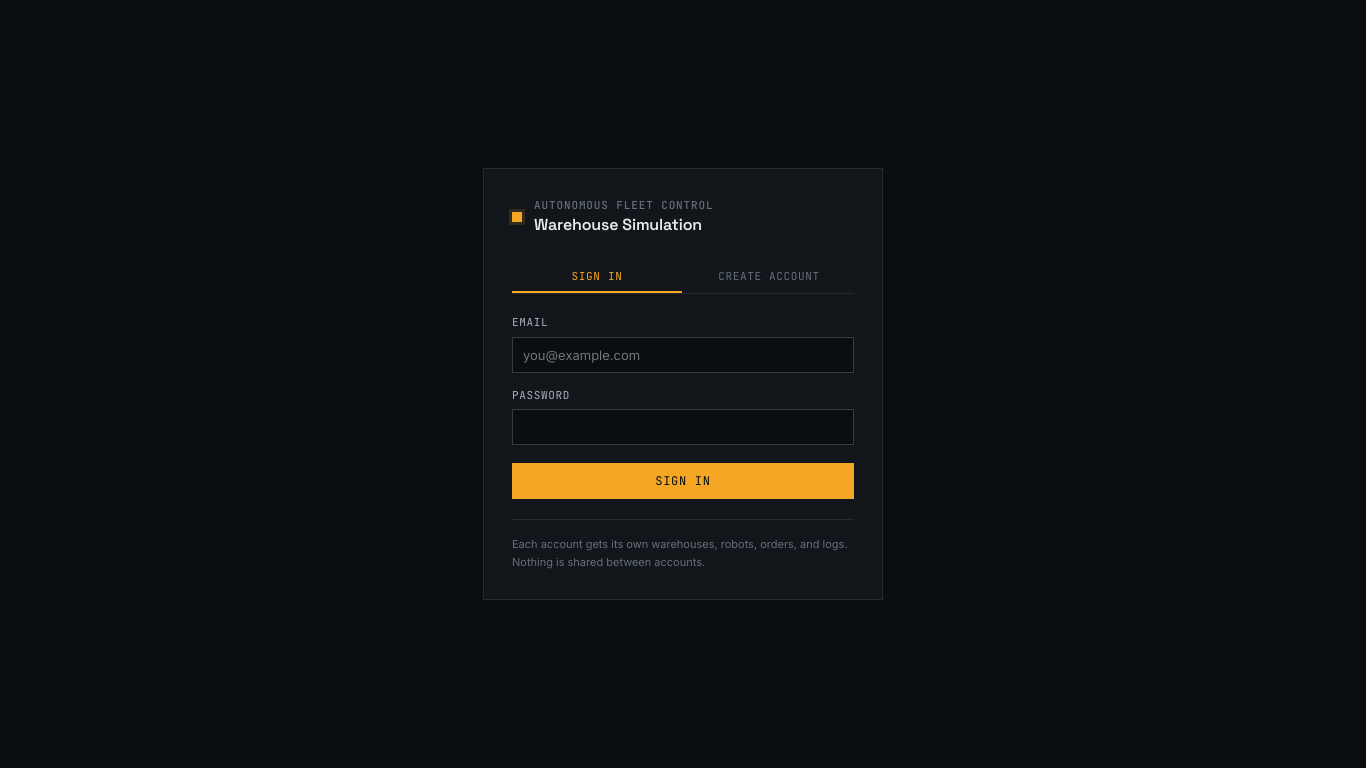
Test: login › signs in and opens the dashboard
The width and height of the screenshot is (1366, 768).
expect the button "Sign in" below "Password" is shown: met, box [512,463,854,499]
Type "ops@example.com" into the field labelled "Email".
click(683, 355); type("ops@example.com")  # box [512,337,854,373]
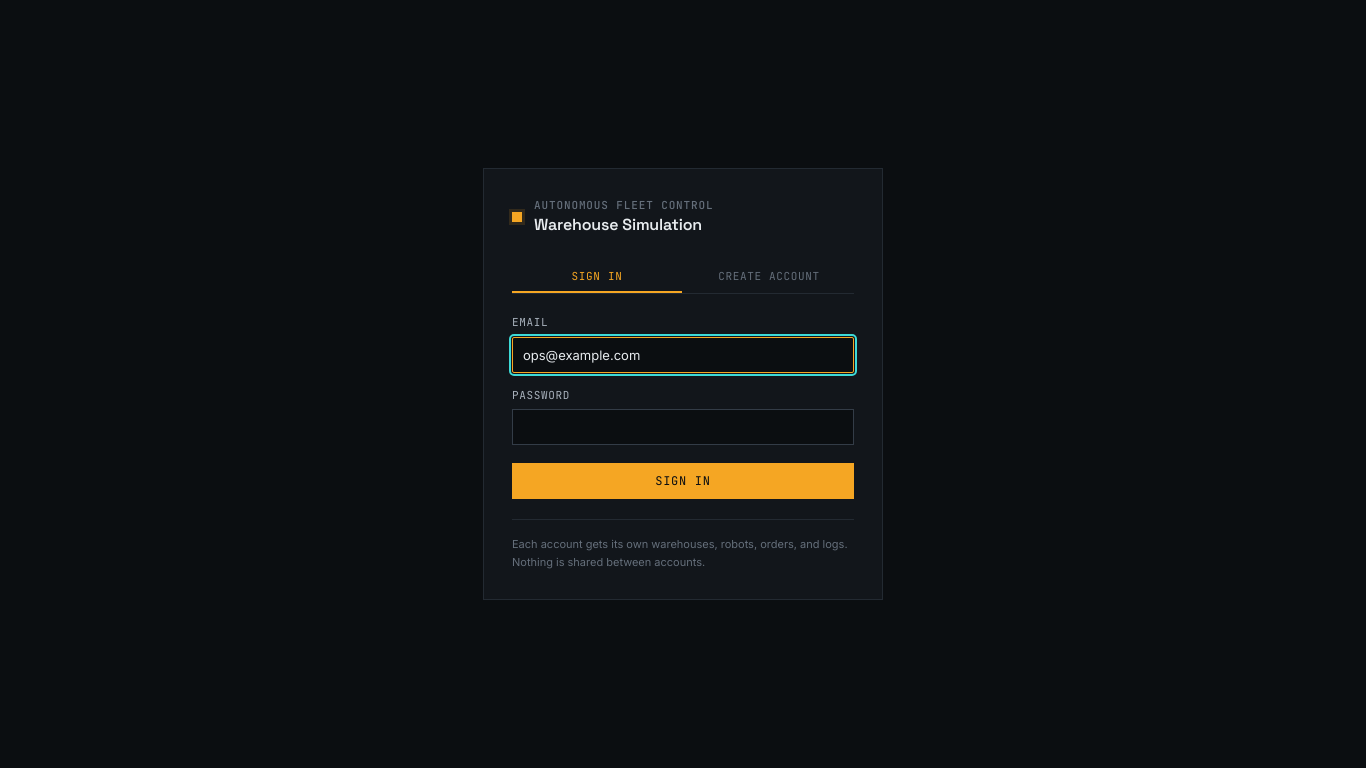
Type "correct-horse-battery" into the password field labelled "Password".
click(683, 427); type("correct-horse-battery")  # box [512,409,854,445]
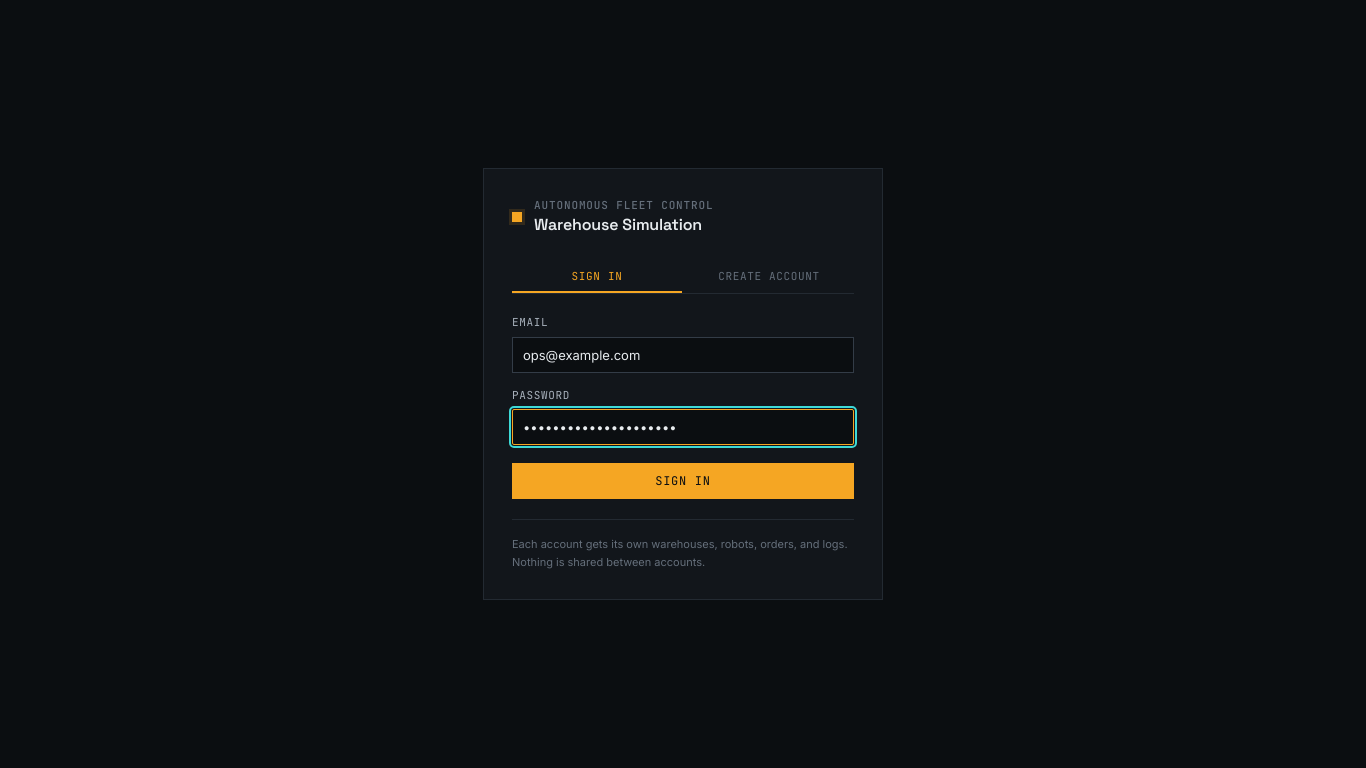
Click the button "Sign in" below "Password".
click(683, 481)  # box [512,463,854,499]
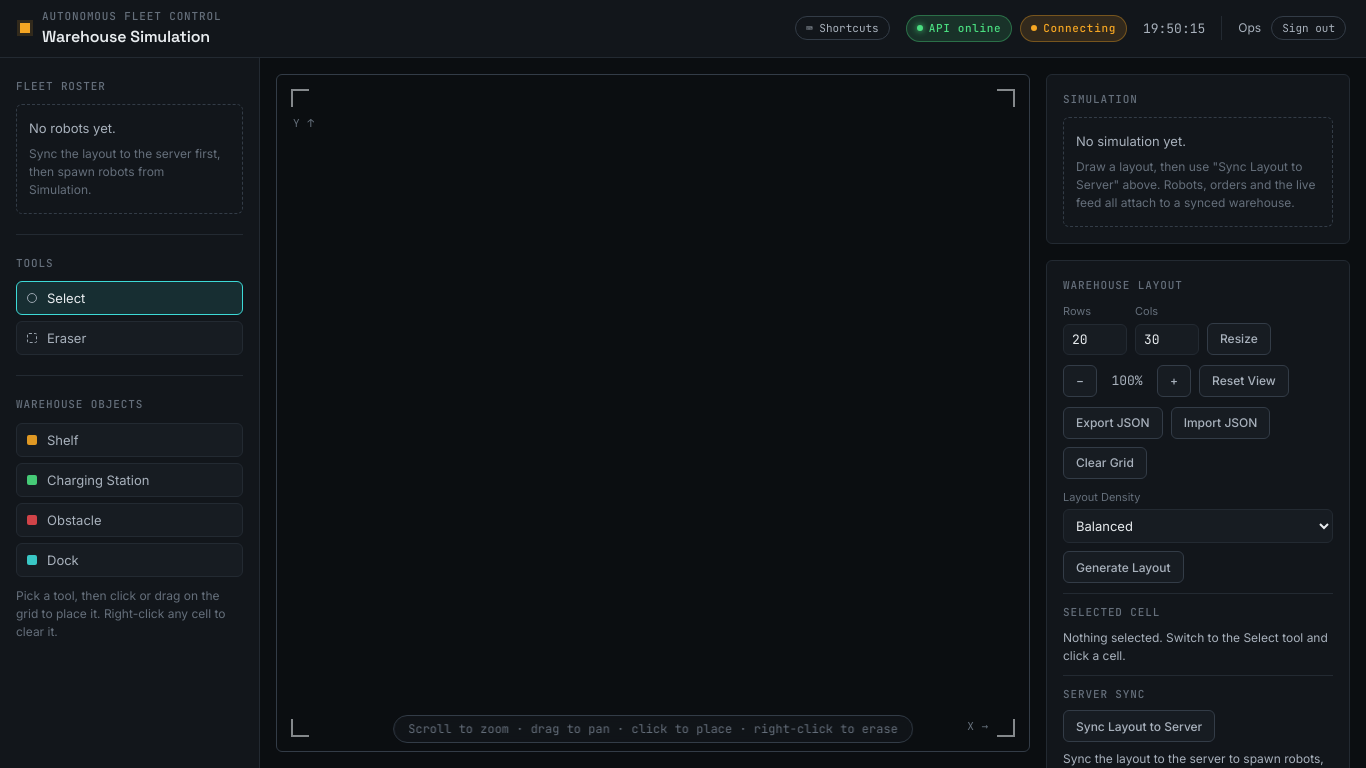
expect the button "Sync Layout to Server" is shown: met, box [1063,710,1215,742]
expect the text "Ops" is shown: met, box [1238,19,1261,37]
